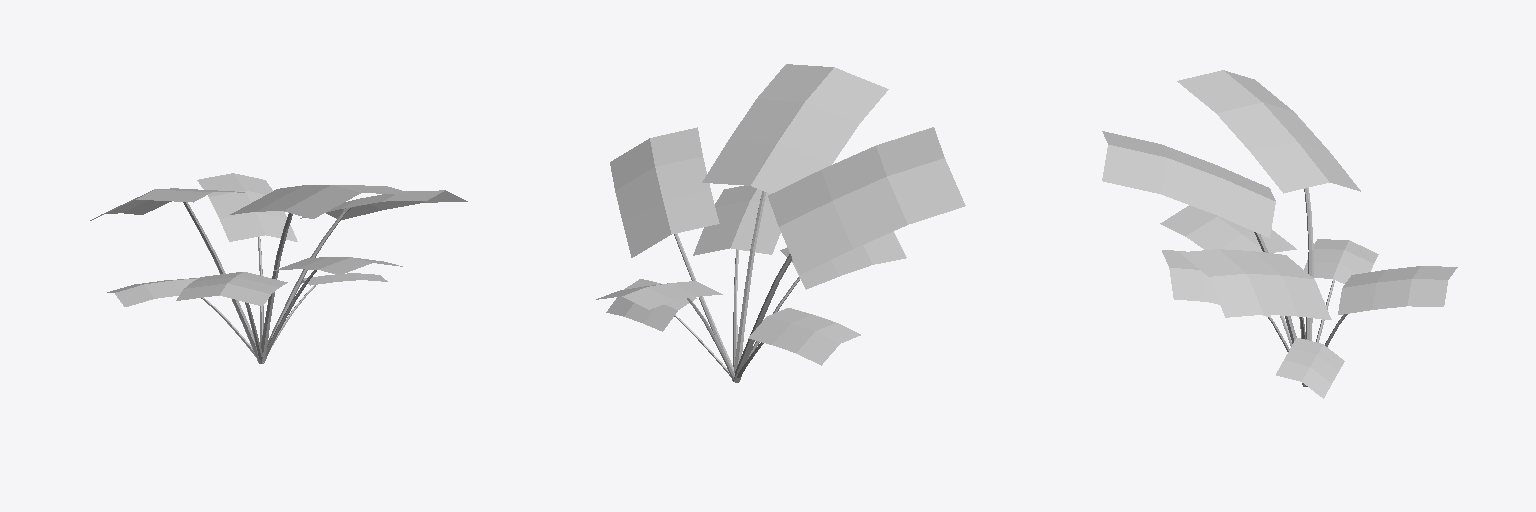
Rendered from Elephant Ear Large Plant.obj.
The picture shows the model from 3 angles: view 1: azimuth 30°, elevation 25°; view 2: azimuth 150°, elevation 25°; view 3: azimuth 270°, elevation 25°; orthographic projection.
Parts seen in each view (by area): view 1: Elephant Ear Large Plant; view 2: Elephant Ear Large Plant; view 3: Elephant Ear Large Plant.
Part boxes in pixels (x1,y1,x2,y2): Elephant Ear Large Plant: (90,173,467,363); Elephant Ear Large Plant: (596,64,965,382); Elephant Ear Large Plant: (1102,70,1457,398).
Size of the model in its own units: 2.43 by 1.51 by 2.02.